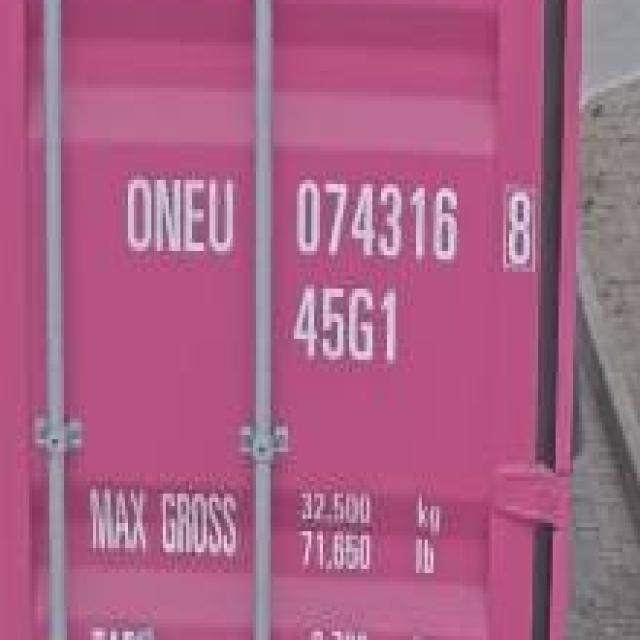dv: (487, 175, 537, 274)
owner: (114, 159, 245, 262)
serial: (284, 158, 467, 264)
size: (277, 275, 412, 378)
